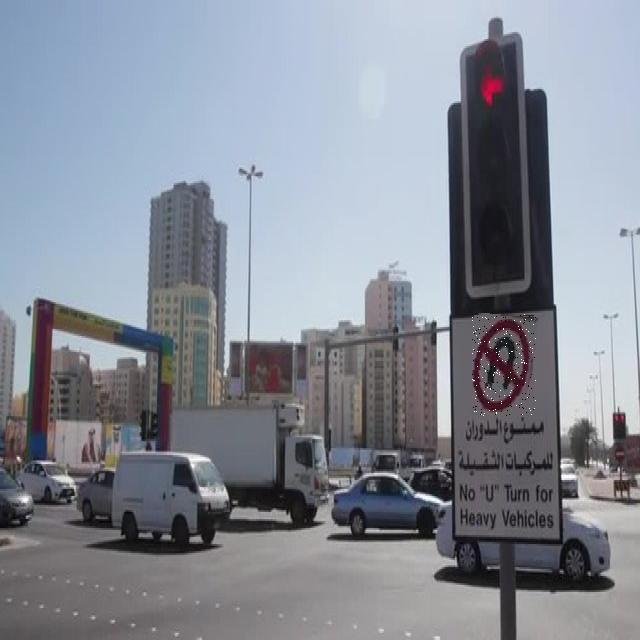no u turn: (472, 314, 536, 416)
